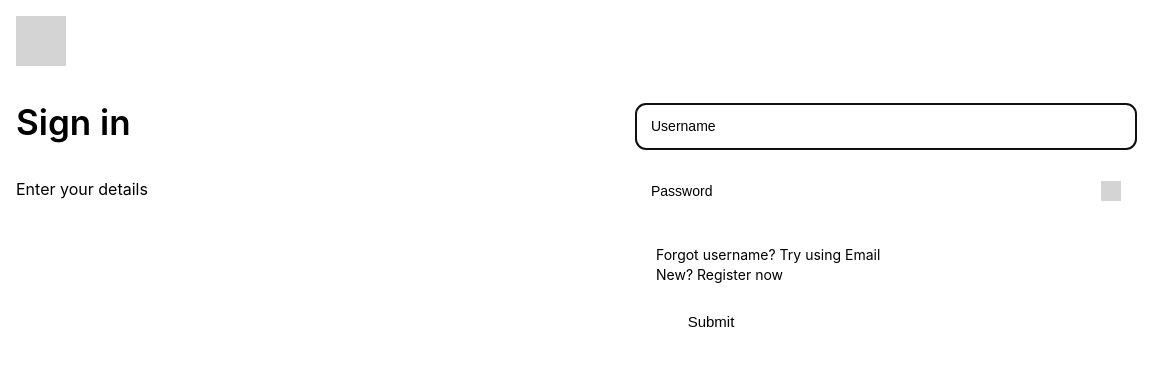
Test: Login form validation › login identifier toggle switches between username and email
Click the text "Forgot username? Try using Email": (758, 254) [636,246,880,262]
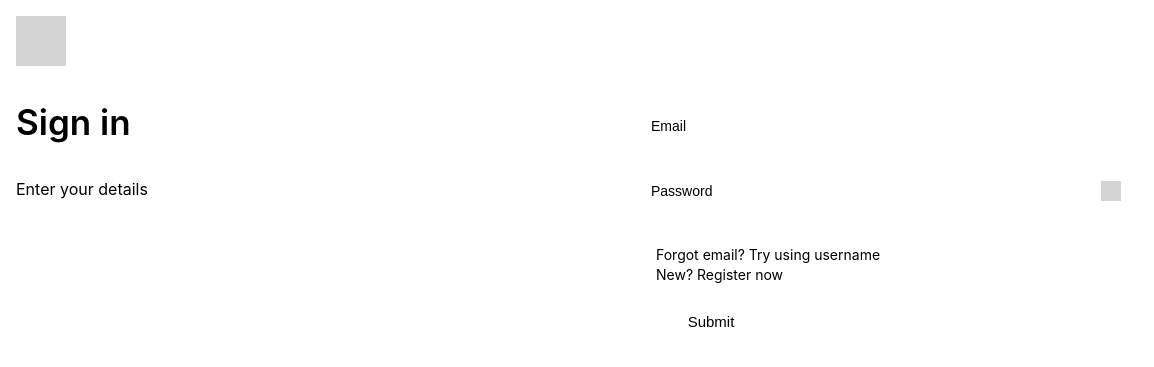
Now the field with placeholder "Email" is shown, box [636,104,1136,148]
Click the text "Forgot email? Try using username": (758, 254) [636,246,880,262]
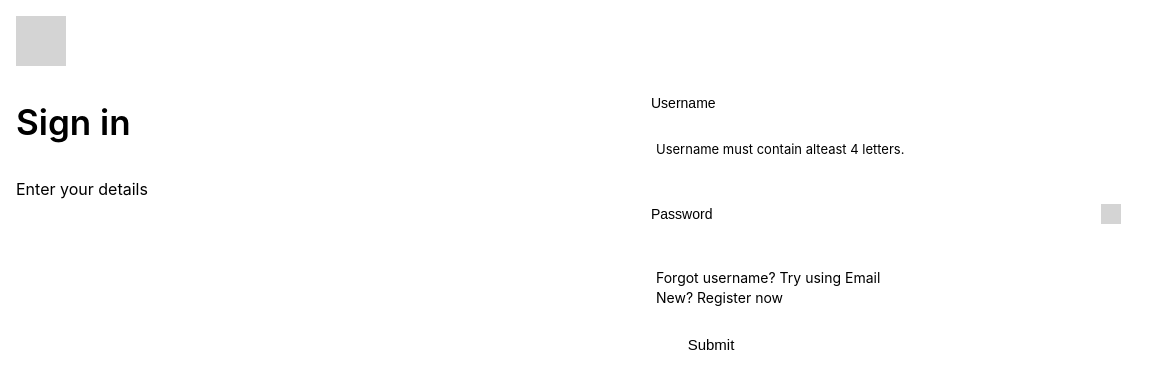
Now the field with placeholder "Username" is shown, box [636,80,1136,126]
